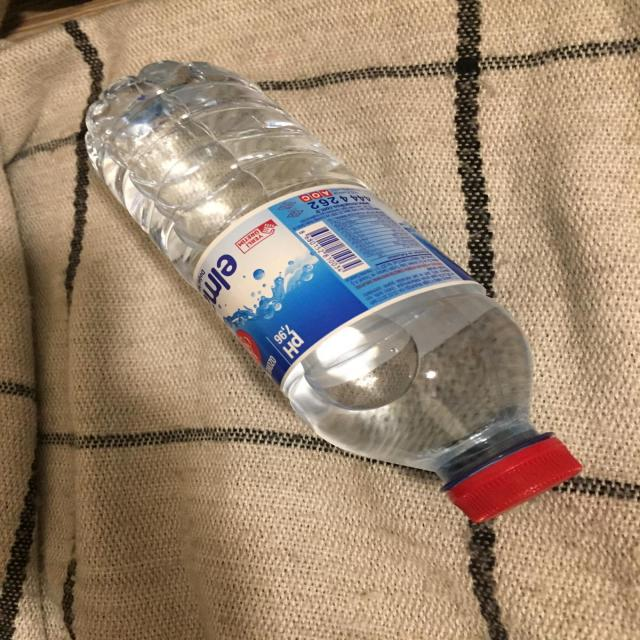bottle: (70, 42, 605, 554)
